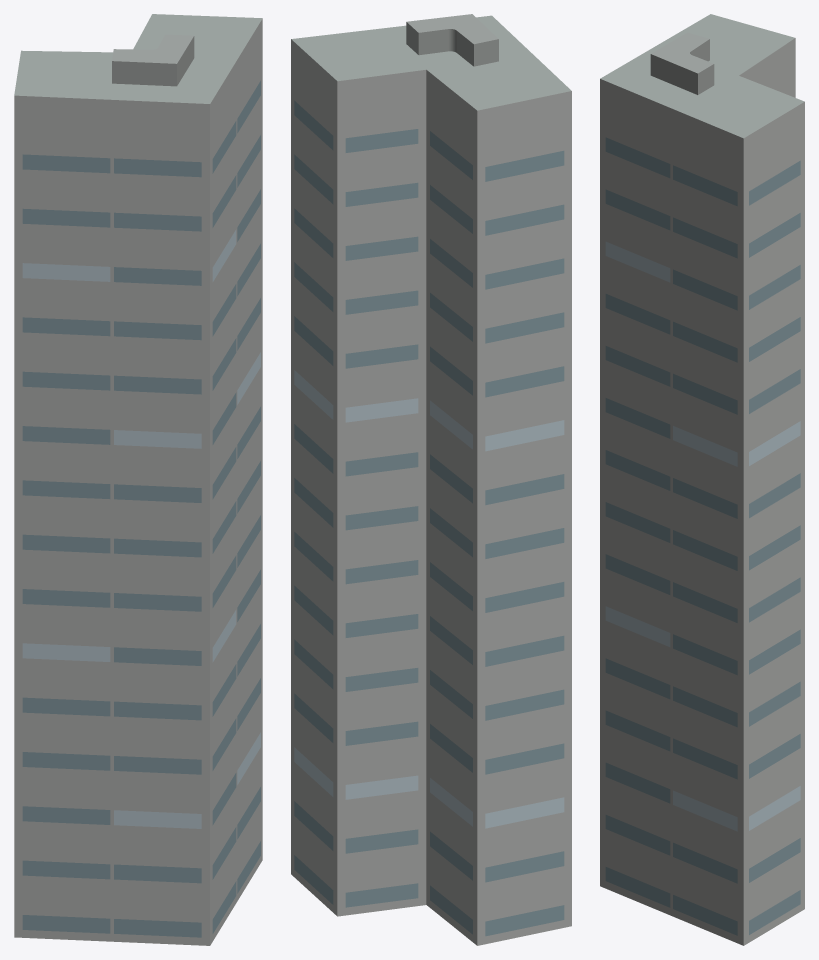
The model's file is fallback-jamsil-ricenz-237.glb.
The picture shows the model from 3 angles, left to right: view 1: azimuth 30°, elevation 25°; view 2: azimuth 150°, elevation 25°; view 3: azimuth 270°, elevation 25°; orthographic projection. The views are drawn at different scales.
Visible parts, largest first — view 1: fallback-jamsil-ricenz-237; view 2: fallback-jamsil-ricenz-237; view 3: fallback-jamsil-ricenz-237.
Boxes of the visible parts, left/top/right/bottom form: fallback-jamsil-ricenz-237: left=14, top=14, right=262, bottom=945; fallback-jamsil-ricenz-237: left=291, top=14, right=571, bottom=945; fallback-jamsil-ricenz-237: left=600, top=14, right=804, bottom=945.
Size of the model in its own units: 29.61 by 92 by 20.6.
